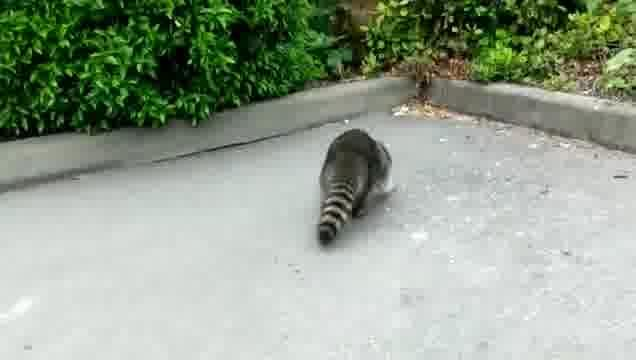raccoon: (314, 127, 393, 250)
